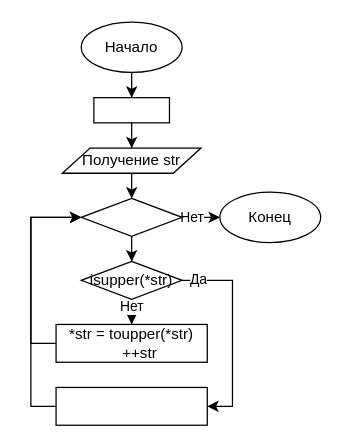
This 343x447 diagram has some shape labels left out. The centre of each missing label's shape, as x and y in pixels:
*str != '\0': point (131, 216)
*str = tolower(*str) ++str: point (131, 405)
Строка str: point (131, 109)
